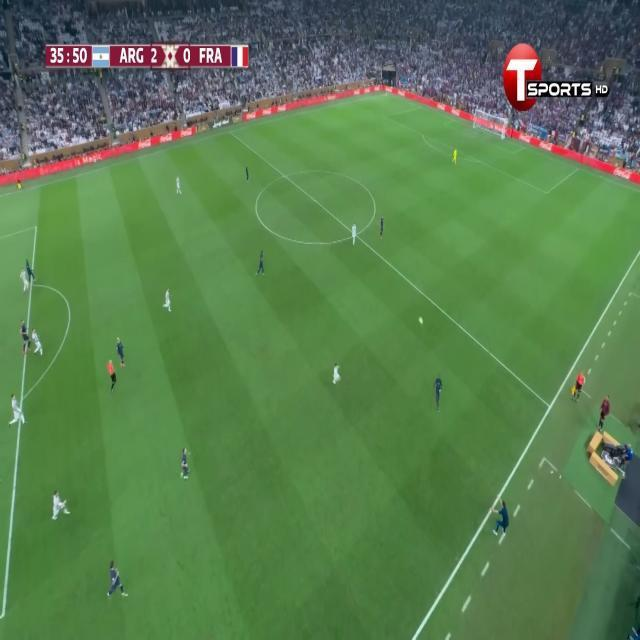goalkeeper: (451, 143, 460, 166)
player: (94, 550, 132, 620), (175, 434, 196, 493), (5, 390, 29, 435), (42, 493, 74, 526), (157, 275, 178, 319), (18, 255, 38, 299), (429, 369, 447, 416), (374, 207, 394, 248), (113, 329, 131, 372), (30, 326, 50, 363), (236, 157, 258, 190), (16, 315, 32, 360), (256, 242, 269, 293), (331, 357, 348, 395), (169, 173, 188, 198), (351, 217, 363, 247)
referee: (568, 363, 589, 416), (106, 356, 120, 401)
